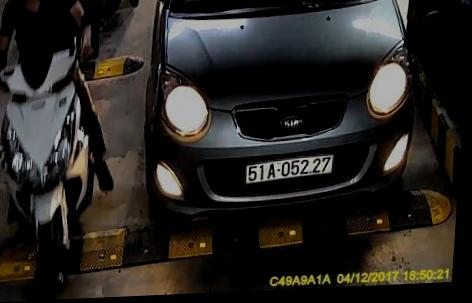License_Plate: (244, 153, 333, 184)
